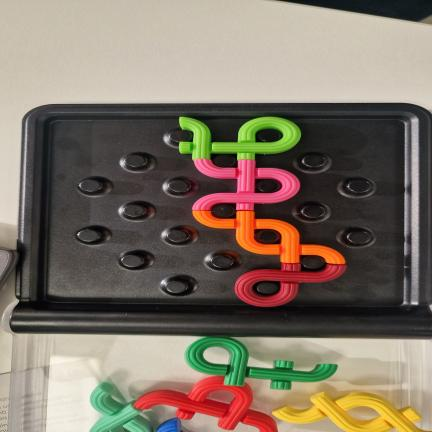G_Pink: (193, 159, 300, 210)
I_Orange: (193, 211, 345, 264)
J_DarkRed: (235, 263, 346, 307)
K_YellowGreen: (179, 117, 300, 160)
board: (10, 103, 432, 339)
hinge: (11, 304, 432, 338)
pin: (254, 230, 280, 244), (254, 281, 280, 295), (346, 179, 371, 193), (256, 129, 282, 142), (256, 179, 280, 193), (211, 204, 235, 218), (347, 231, 371, 245), (120, 254, 144, 268), (301, 155, 326, 168), (79, 179, 102, 193), (168, 179, 191, 193), (123, 204, 146, 218), (211, 255, 234, 269), (165, 280, 188, 294), (301, 205, 325, 218), (301, 256, 325, 269), (169, 129, 192, 142), (124, 155, 147, 168), (77, 229, 100, 242), (214, 154, 236, 167), (167, 230, 189, 243)
